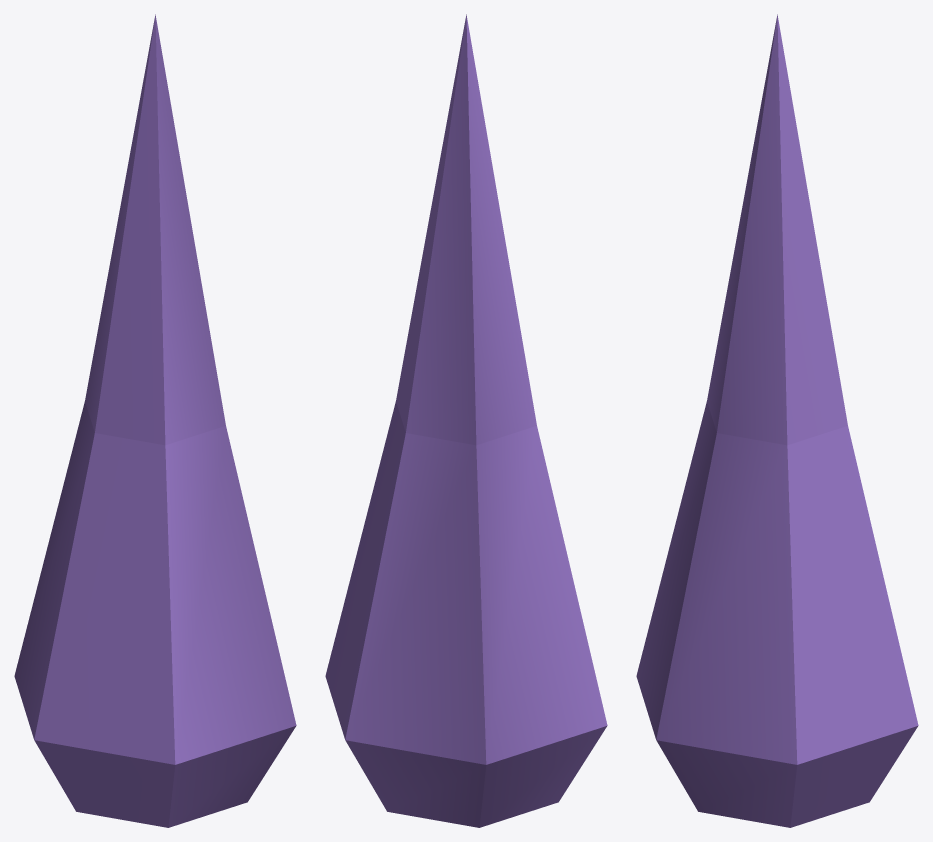
File: 2083_PrimordialShower_Electro_Counter_Projectile.fbx
3 renders of one model, left to right at view 1: azimuth 30°, elevation 25°; view 2: azimuth 150°, elevation 25°; view 3: azimuth 270°, elevation 25°, orthographic.
Parts seen in each view (by area): view 1: PART_ReflectedElementFragment; view 2: PART_ReflectedElementFragment; view 3: PART_ReflectedElementFragment.
Boxes of the visible parts, box(x1,y1,x2,y2) form: PART_ReflectedElementFragment: box(14, 14, 296, 827); PART_ReflectedElementFragment: box(325, 14, 607, 827); PART_ReflectedElementFragment: box(636, 14, 918, 827).
Size of the model in its own units: 51.56 by 145 by 48.02.
